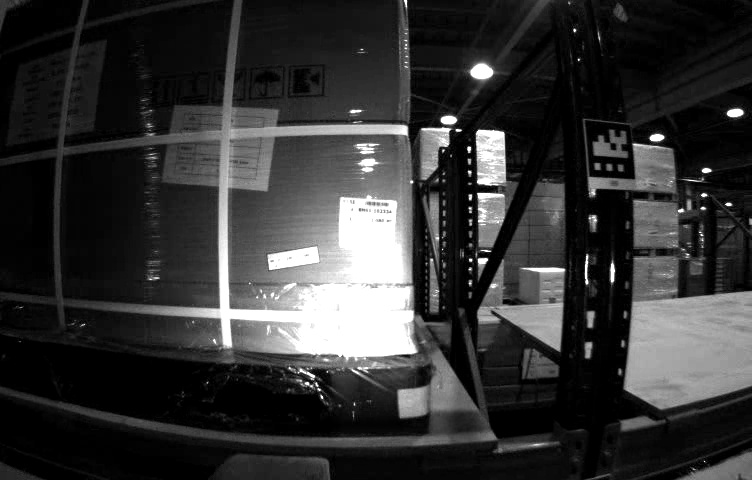True Barcode: (334, 194, 399, 252)
